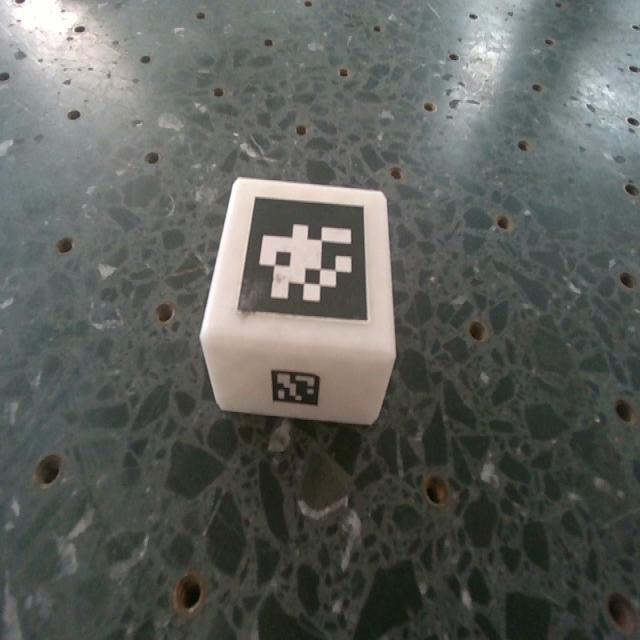Cube: (199, 180, 397, 427)
